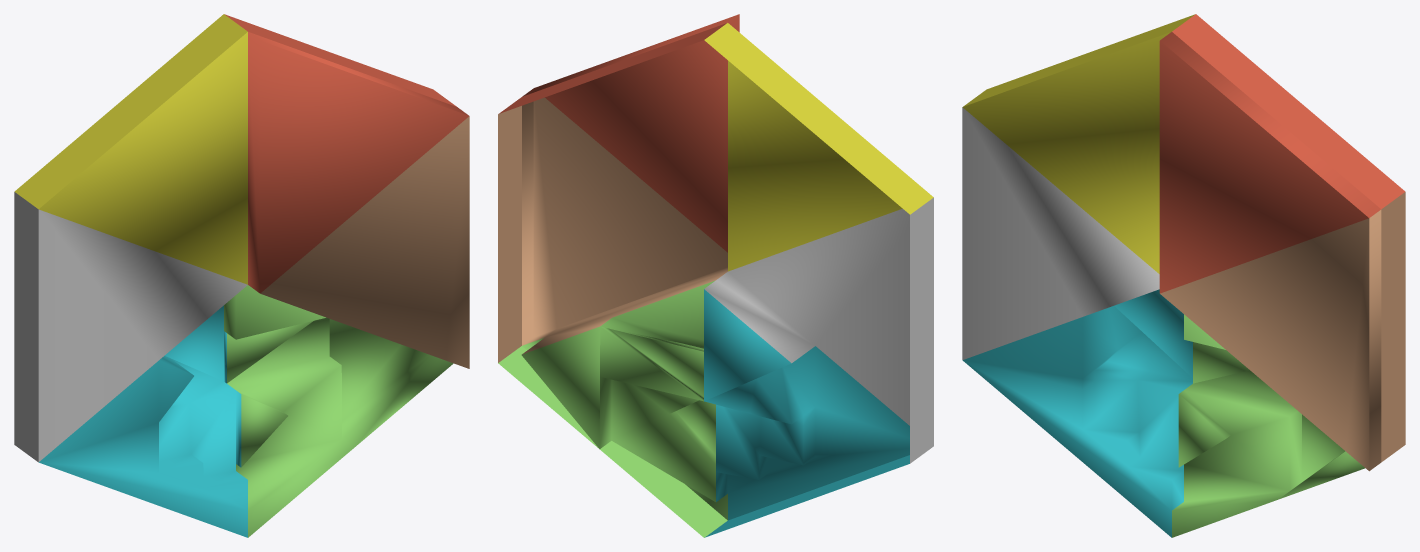
File: tile_pool.fbx
The picture shows the model from 3 angles, left to right: view 1: azimuth 30°, elevation 25°; view 2: azimuth 150°, elevation 25°; view 3: azimuth 330°, elevation 25°; orthographic projection.
Parts seen in each view (by area): view 1: tile_pool; view 2: tile_pool; view 3: tile_pool.
Boxes of the visible parts, x1=… form: tile_pool: x1=14, y1=14, x2=469, y2=537; tile_pool: x1=498, y1=14, x2=933, y2=537; tile_pool: x1=962, y1=14, x2=1405, y2=537.
Bounding box in the file's own units: 2000 × 2310 × 300.
